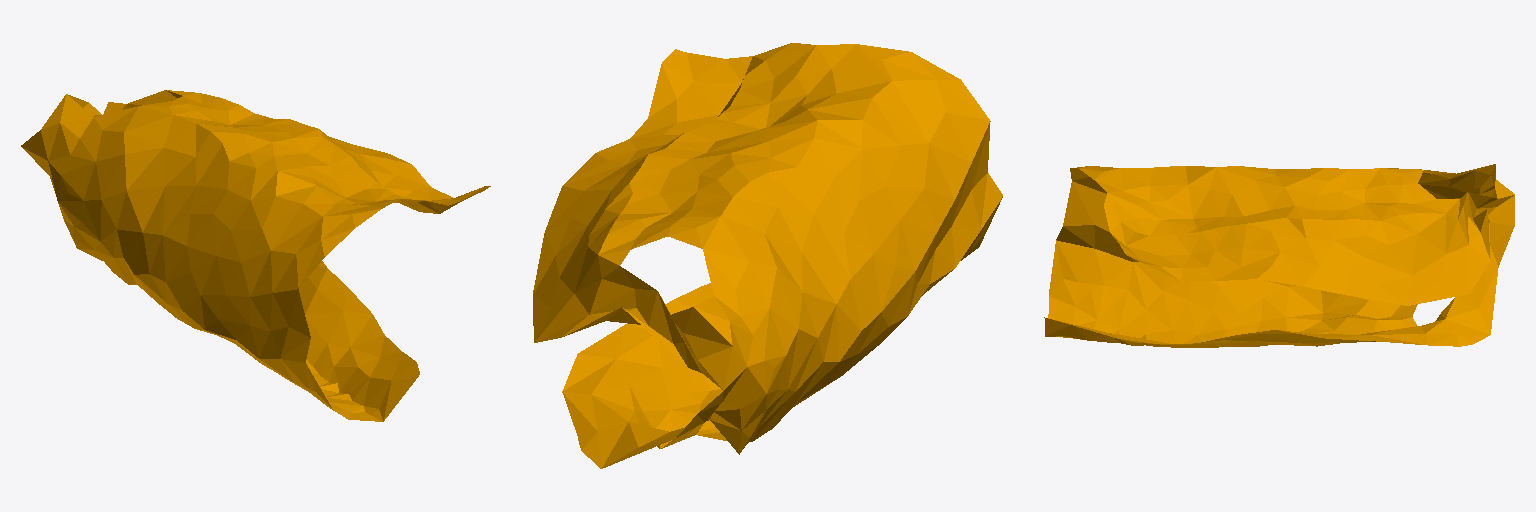
URDF robot description (init):
<?xml version='1.0' encoding='utf-8'?>
<robot name="init">
<link name="link_0"><inertial><mass value="1.0" /><origin rpy="0 0 0" xyz="0.000000 0.000000 0.000000" /><inertia ixx="1.0" ixy="0.0" ixz="0.0" iyy="1.0" iyz="0.0" izz="1.0" /></inertial><visual><origin rpy="0 0 0" xyz="0.000000 0.000000 0.000000" /><geometry><mesh filename="./clothHuman/cloth/2805.obj" /></geometry></visual><collision><origin rpy="0 0 0" xyz="0.000000 0.000000 0.000000" /><geometry><mesh filename="./clothHuman/cloth/2805.obj" /></geometry></collision></link></robot>

--- Facts derived from the render (not from the file) ---
3 views of the same robot in one strip: view 1: azimuth 30°, elevation 25°; view 2: azimuth 150°, elevation 25°; view 3: azimuth 270°, elevation 25° (orthographic).
Model init with 1 links and 0 joints (none), rooted at link_0, posed all joints at 0.
Visible links, largest first — view 1: link_0; view 2: link_0; view 3: link_0.
Link boxes in pixels (x1,y1,x2,y2): link_0: (21, 90, 490, 421); link_0: (533, 43, 1002, 468); link_0: (1044, 164, 1514, 347).
Bounding box of the posed robot: 2.19 × 3.86 × 1.58 m (x, y, z).
1 mesh visuals loaded from 1 distinct referenced files (1 OBJ).